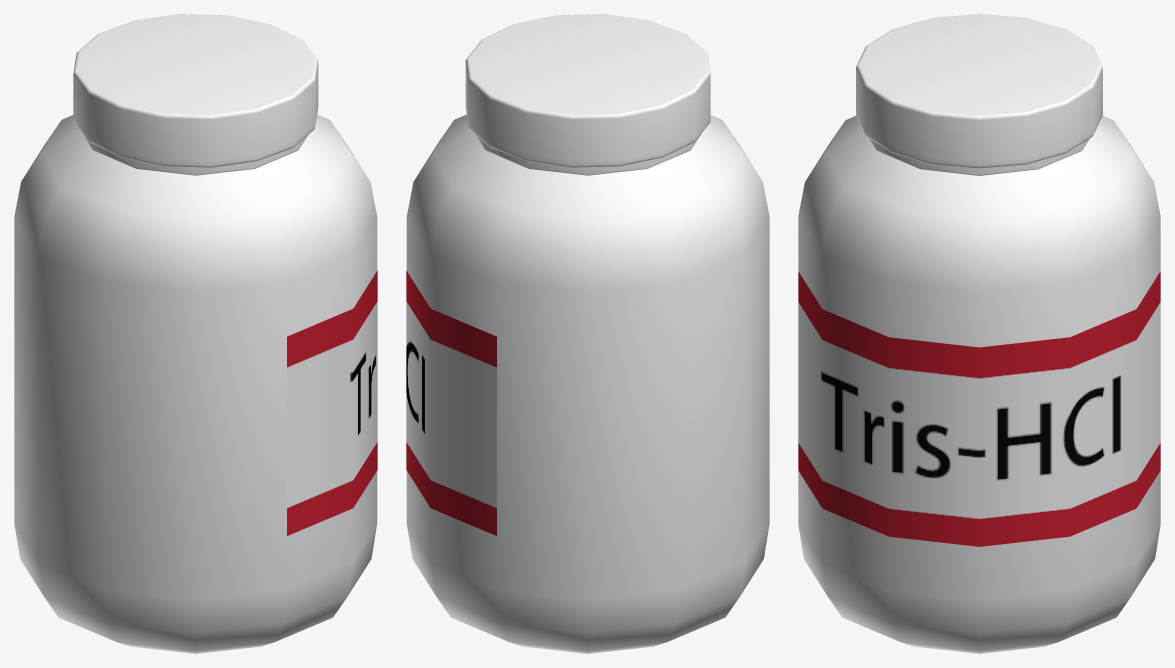
The model's file is Tris-HCl.glb.
The picture shows the model from 3 angles, left to right: view 1: azimuth 30°, elevation 25°; view 2: azimuth 150°, elevation 25°; view 3: azimuth 270°, elevation 25°; orthographic projection.
Visible parts, largest first — view 1: Tris-HCl, Cylinder003, 对象002; view 2: Tris-HCl, Cylinder003, 对象002; view 3: Tris-HCl, 对象002, Cylinder003.
Part boxes in pixels (x1,y1,x2,y2): Tris-HCl: (14, 114, 377, 653); Cylinder003: (73, 14, 318, 167); 对象002: (287, 270, 377, 535); Tris-HCl: (406, 114, 769, 653); Cylinder003: (465, 14, 710, 167); 对象002: (406, 270, 496, 535); Tris-HCl: (798, 116, 1160, 653); 对象002: (798, 271, 1160, 546); Cylinder003: (856, 14, 1102, 168).
Bounding box in the file's own units: 0.0876 × 0.1435 × 0.0875.
1 material, 1 textured.
